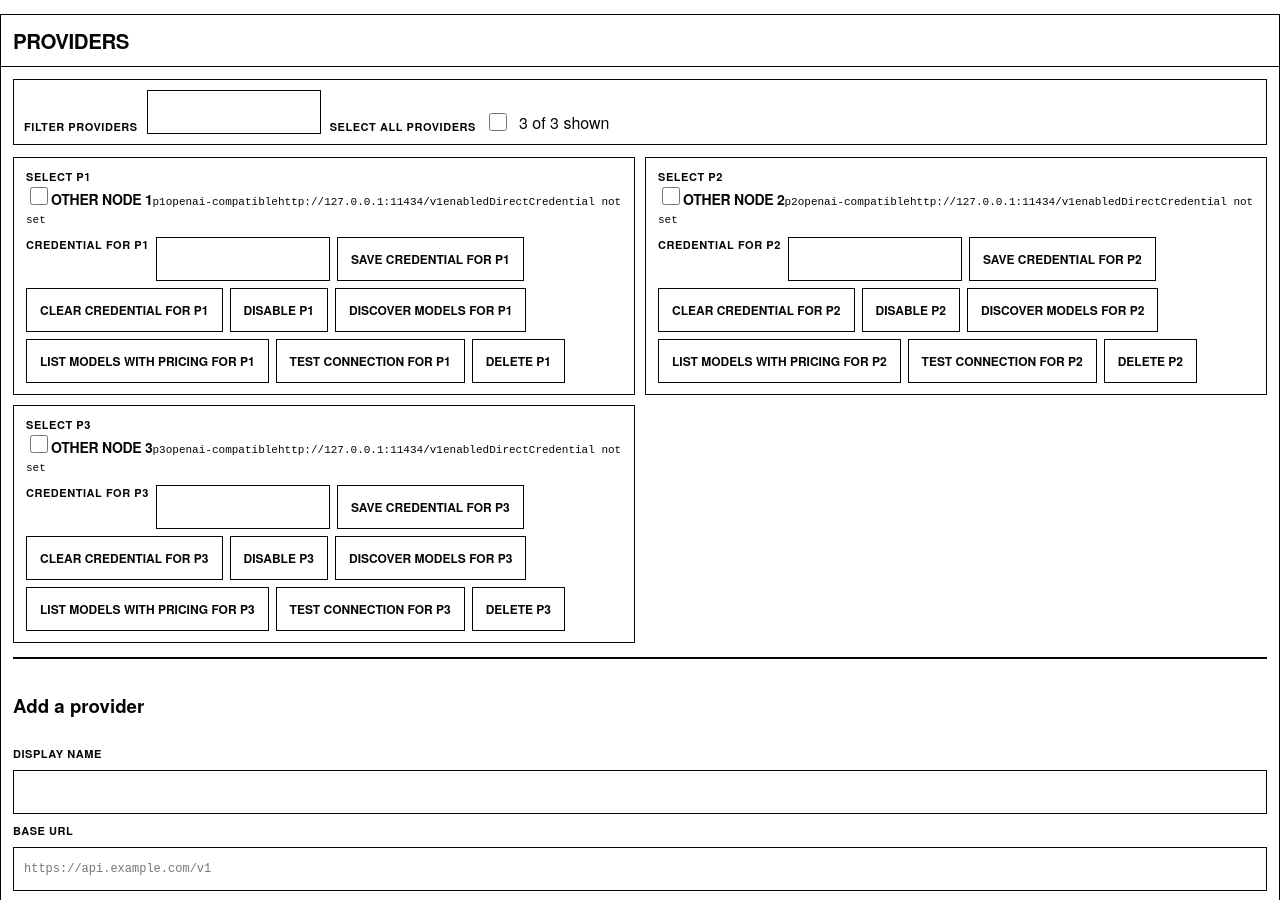
Test: bulk provider proxy assignment › hides the assign bar until something is selected
Expected: the text "Other node 1" is shown, [51,189,152,209]
Click the checkbox with test id "select-p2" at (671, 196), box [662,187,680,205]
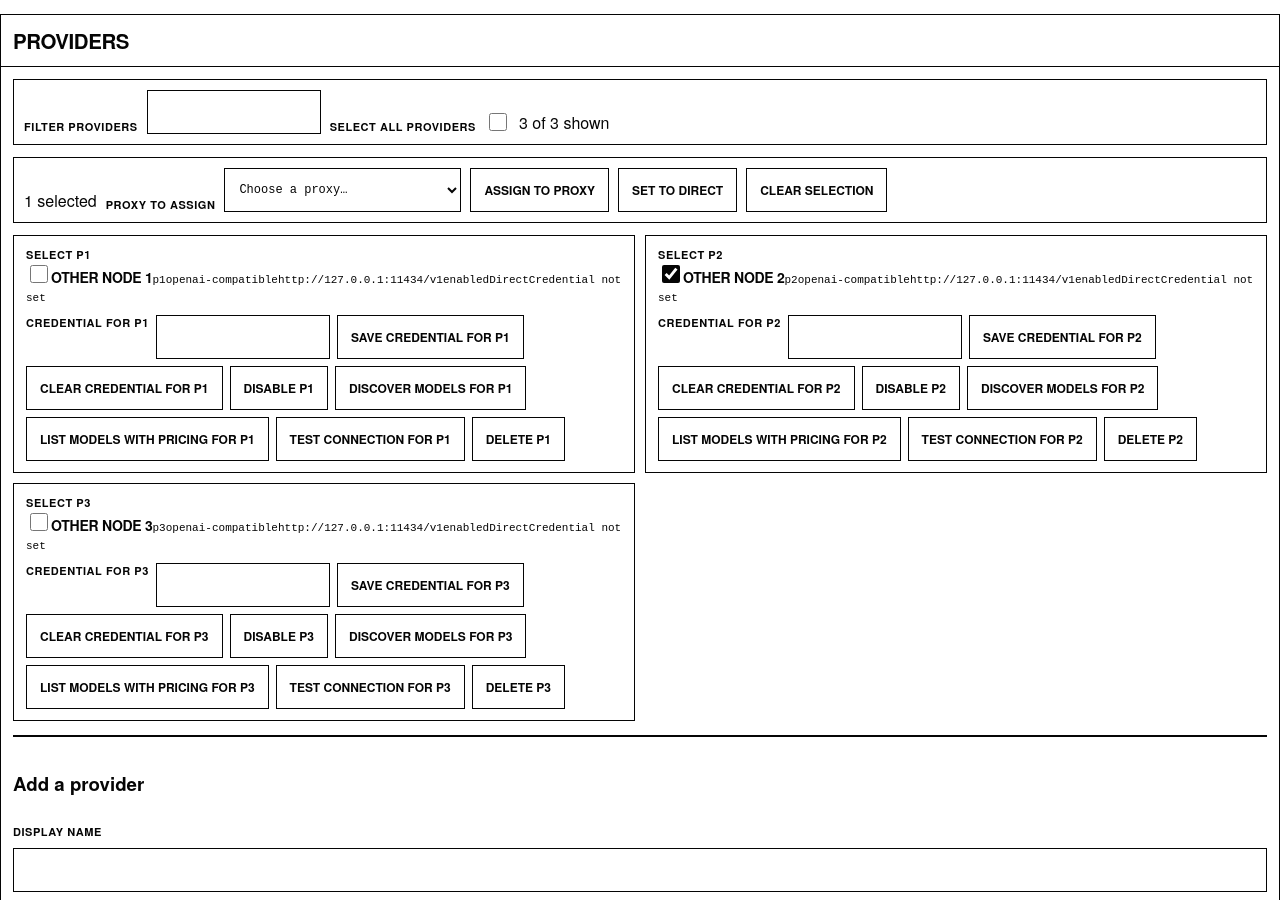
Expected: the element with test id "proxy-assign-bar" shows "1 selected", [13,157,1267,223]
